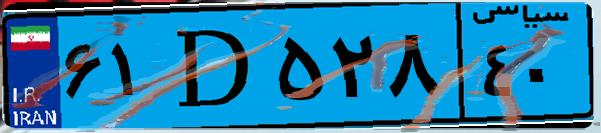0: (525, 38, 570, 115)
1: (110, 28, 158, 98)
2: (330, 28, 385, 110)
4: (475, 38, 525, 113)
5: (270, 28, 330, 110)
6: (57, 26, 110, 100)
8: (385, 28, 445, 110)
D: (158, 12, 270, 120)
